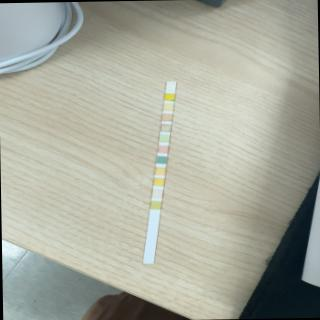mark: (154, 167, 166, 175), (156, 156, 167, 164), (152, 190, 162, 198), (158, 145, 168, 153), (159, 134, 169, 142), (150, 201, 160, 208), (154, 178, 164, 185), (160, 125, 170, 132), (161, 114, 171, 120), (163, 104, 173, 110), (166, 83, 174, 90), (165, 94, 174, 100)
